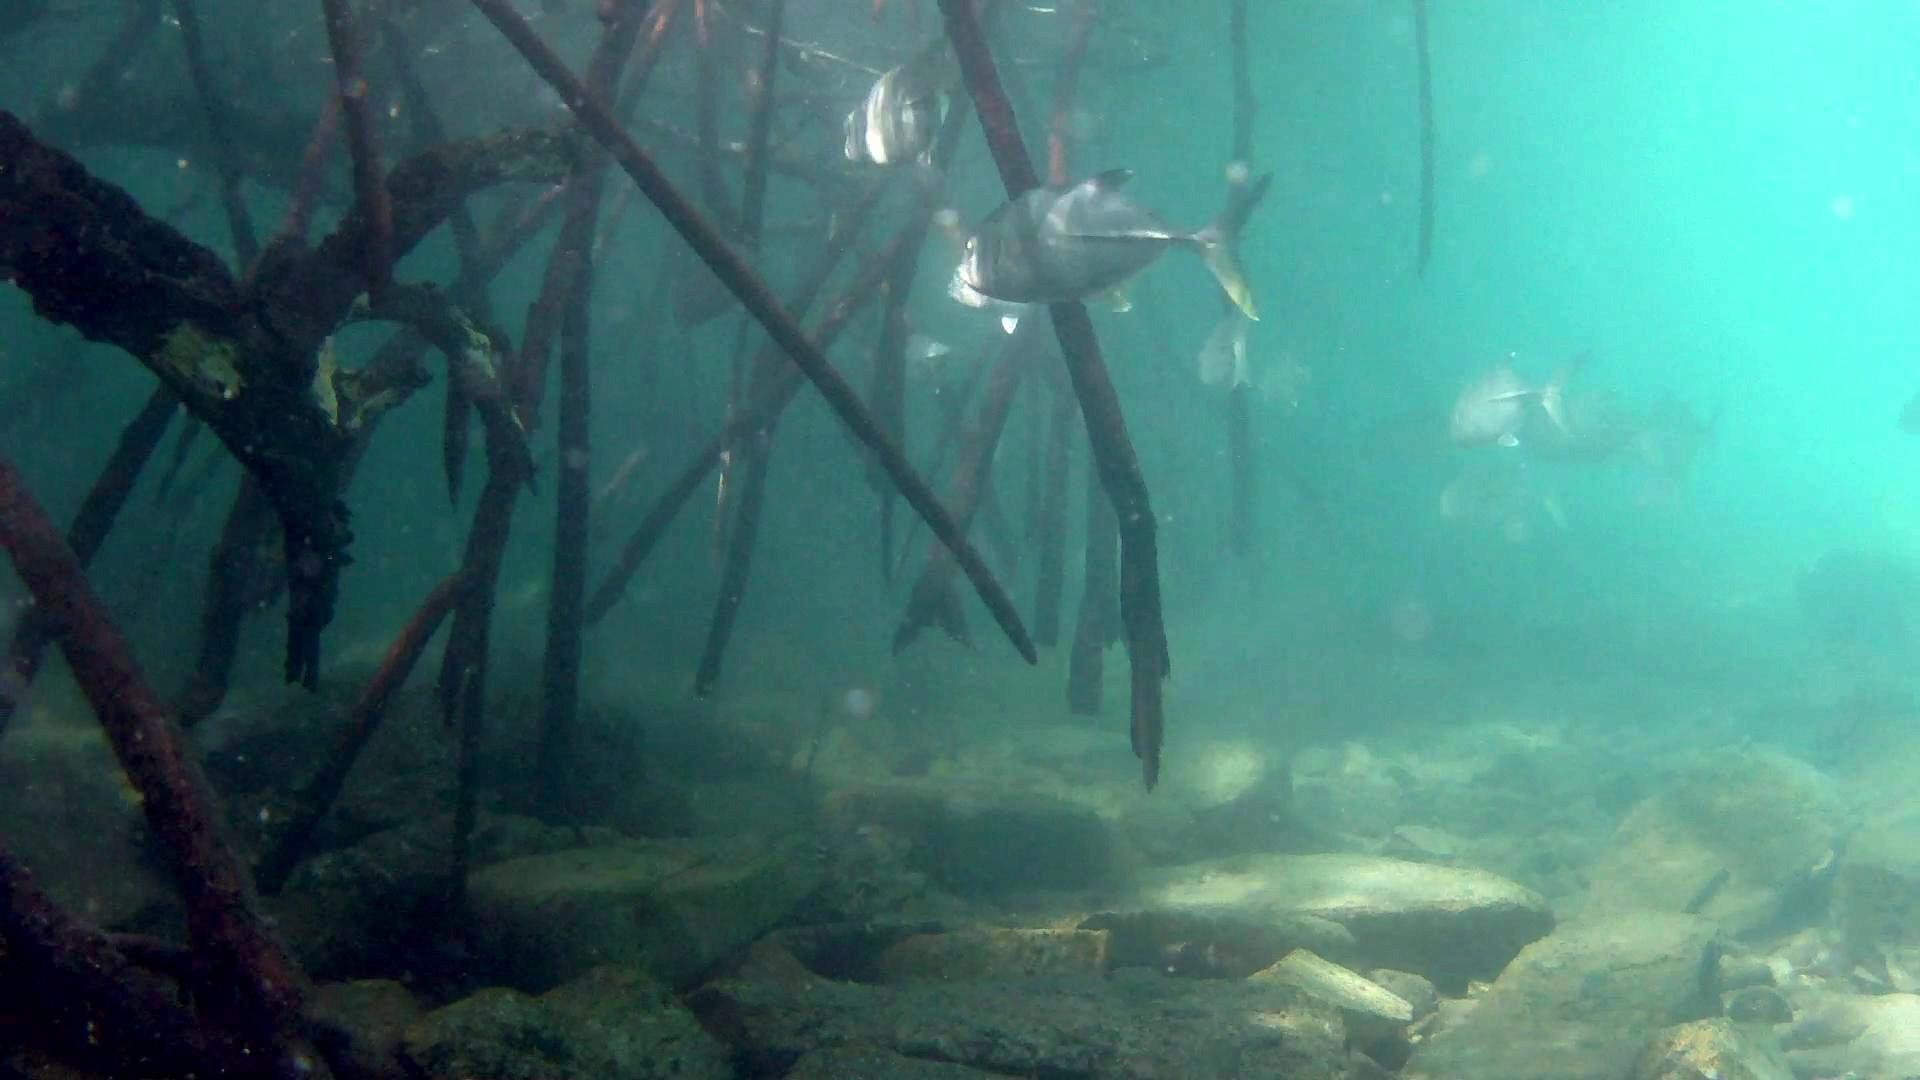caranx: (946, 156, 1276, 335)
